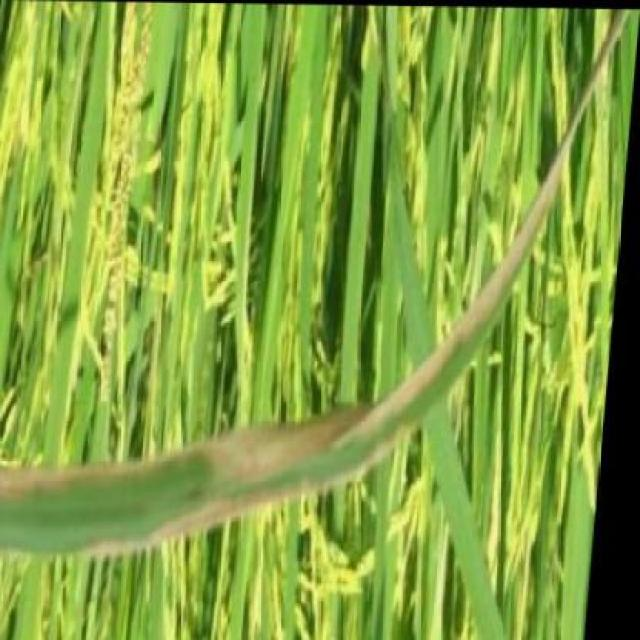Brown_Spot: (0, 438, 332, 563)
